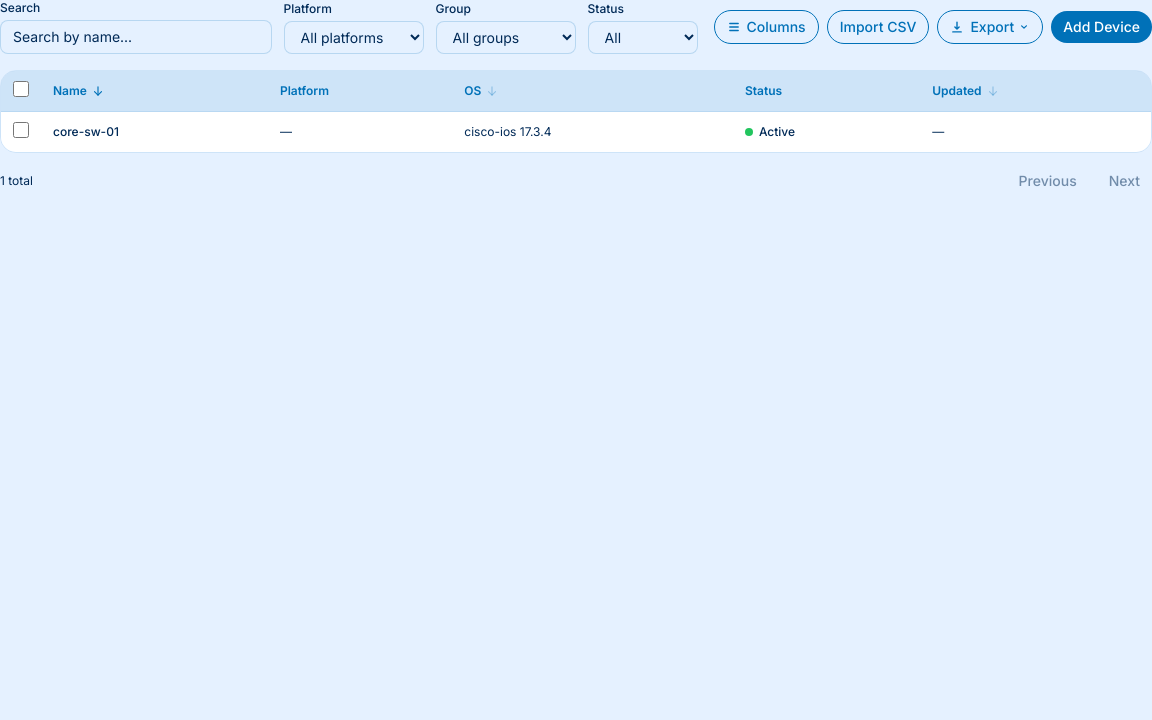
Scenario: DevicesListPage row click › opens a read-only quick-view modal instead of navigating on row click
This screenshot has width=1152, height=720.
Click the text "core-sw-01": (86, 132) x1=53 y1=124 x2=119 y2=139
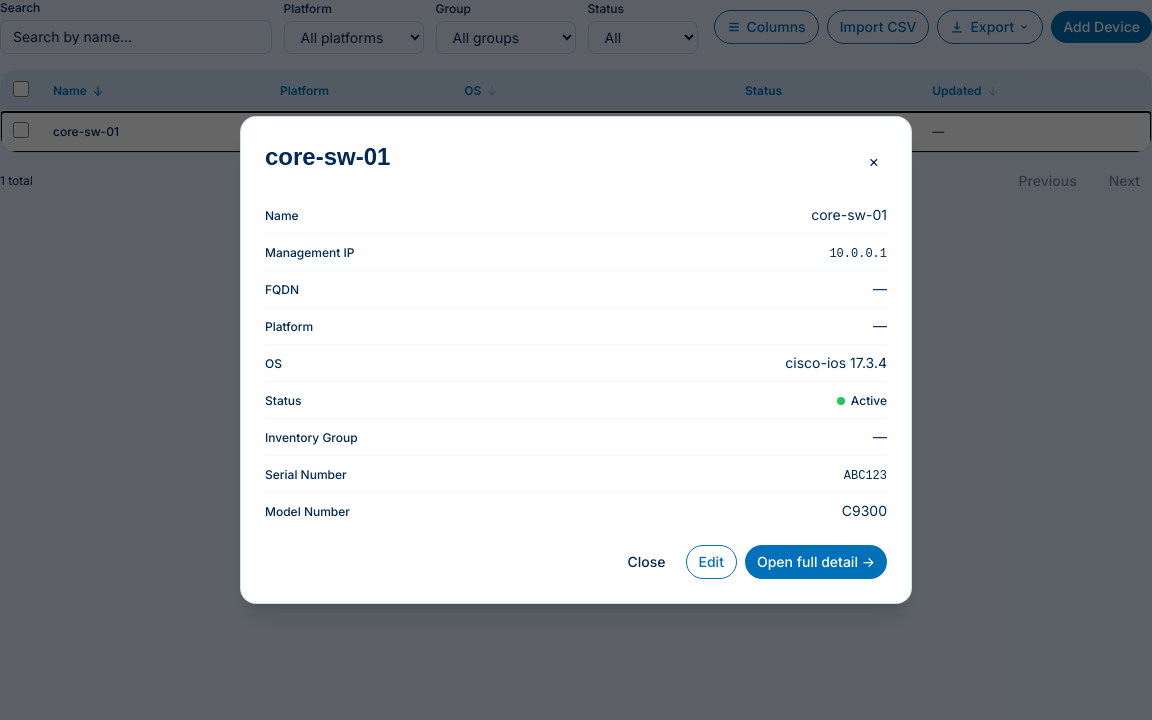
Now the button "Open full detail →" is shown, box x1=745 y1=545 x2=887 y2=579
Now the text "10.0.0.1" is shown, box x1=829 y1=247 x2=887 y2=261
